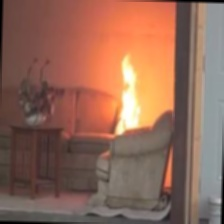fire: (113, 51, 145, 134)
